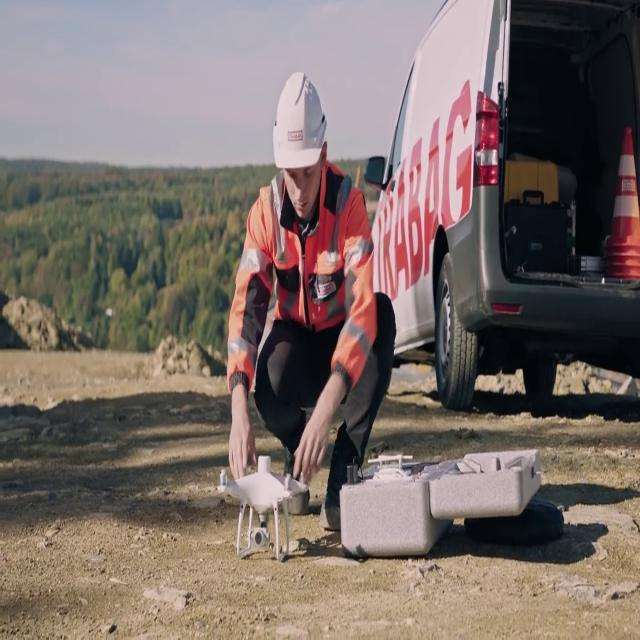drone: (220, 457, 292, 559)
